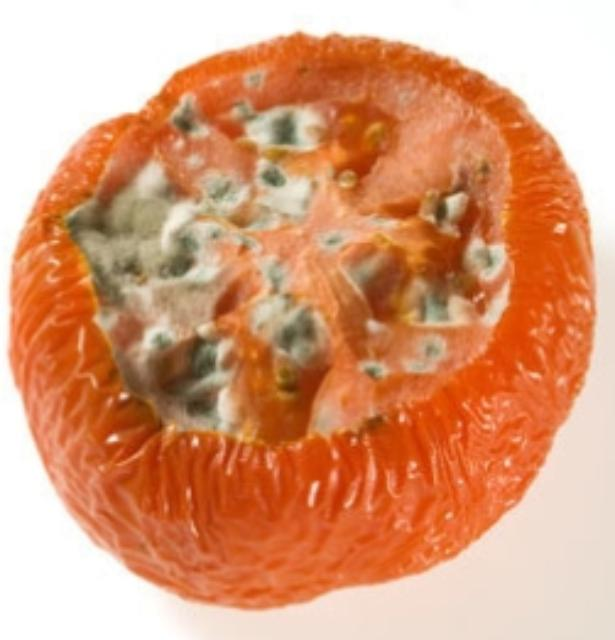defect: (8, 25, 603, 615)
